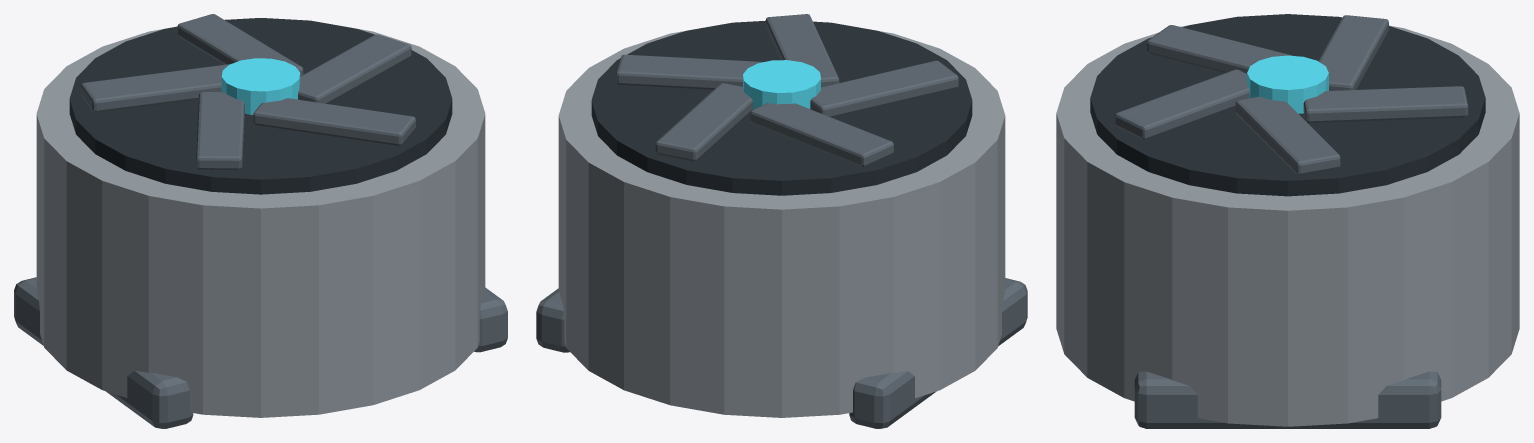
Rendered from 1_Vent.fbx.
3 views of the same model, side by side, from view 1: azimuth 30°, elevation 25°; view 2: azimuth 150°, elevation 25°; view 3: azimuth 270°, elevation 25° (orthographic). The views are drawn at different scales.
Visible parts, largest first — view 1: Body, Rotor; view 2: Body, Rotor; view 3: Body, Rotor.
Part boxes in pixels (box(x1,y1,x2,y2)): Body: box(14, 18, 507, 428); Rotor: box(81, 14, 415, 169); Body: box(536, 20, 1027, 428); Rotor: box(616, 14, 958, 166); Body: box(1056, 14, 1519, 428); Rotor: box(1115, 15, 1468, 175).
Bounding box in the file's own units: 1.36 × 0.88 × 1.36.
